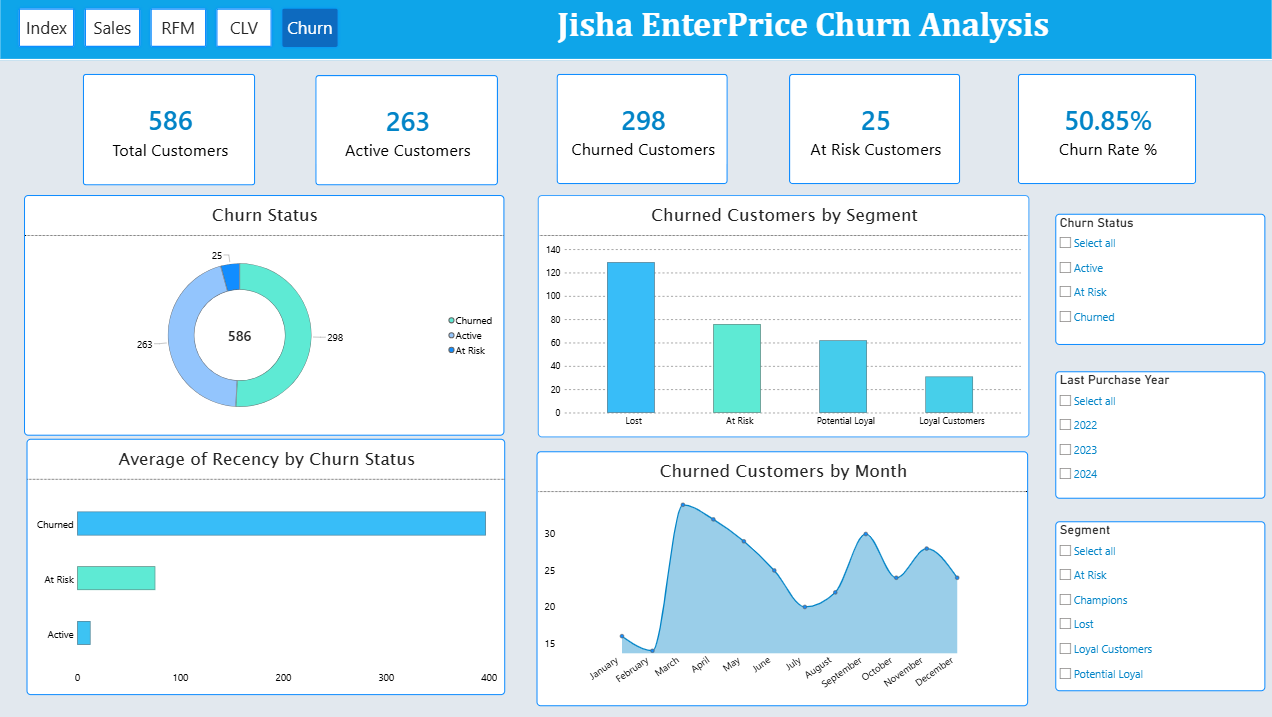

The dashboard page shown, as its layout file describes it:
{"tool":"powerbi","page":{"name":"Churn","canvas":[3000,1700],"ordinal":4},"visuals":[{"type":"cardVisual","fields":{"Data":["Customer RFM.Churn Total Customers"]},"box":[198.2,184.8,406.7,263.3],"z":0},{"type":"cardVisual","fields":{"Data":["Customer RFM.Active Customers"]},"box":[743.6,187.9,430,260],"z":1000},{"type":"cardVisual","fields":{"Data":["Customer RFM.At Risk Customers"]},"box":[1858.8,184.8,403.3,260],"z":2000},{"type":"cardVisual","fields":{"Data":["Customer RFM.Churned Customers"]},"box":[1310.3,184.8,403.3,260],"z":3000},{"type":"cardVisual","fields":{"Data":["Customer RFM.Churn Rate %"]},"box":[2398.2,184.8,420,260],"z":4000},{"type":"donutChart","title":"Churn Status","fields":{"Category":["Customer RFM.Churn Status"],"Y":["Customer RFM.Churn Total Customers"]},"box":[58.8,470.9,1130,566.7],"z":5000},{"type":"clusteredColumnChart","fields":{"Category":["Customer RFM.Segment"],"Y":["Customer RFM.Churned Customers"]},"box":[1267,470,1156.7,570],"z":6000},{"type":"clusteredBarChart","fields":{"Category":["Customer RFM.Churn Status"],"Y":["Avg(Customer RFM.Recency)"]},"box":[65.7,1042.9,1126.7,603.3],"z":7000},{"type":"shape","box":[0,0,3000,153.3],"z":8000},{"type":"lineChart","fields":{"Category":["Customer RFM.Last Purchase Month.Variation.Date Hierarchy.Month"],"Y":["Customer RFM.Churned Customers"]},"box":[1265.7,1074.3,1157.1,600],"z":9000},{"type":"pageNavigator","box":[37.5,22.5,770,107.5],"z":10000},{"type":"textbox","box":[786.7,20,2213.3,130],"z":11000},{"type":"slicer","fields":{"Values":["Customer RFM.Churn Status"]},"box":[2485.7,514.3,494.3,308.6],"z":12000},{"type":"actionButton","box":[0,0,100,40],"z":13000},{"type":"slicer","fields":{"Values":["Customer RFM.Last Purchase Date.Variation.Date Hierarchy.Year"]},"box":[2485.7,885.7,494.3,300],"z":14000},{"type":"slicer","fields":{"Values":["Customer RFM.Segment"]},"box":[2485.7,1237.1,494.3,400],"z":15000}]}

Visuals, with their boxes in screenshot pixels (x1, y1, x2, y2), scaled from the page's 3000x1700 canvas onto the 1272x717 screenshot:
cardVisual - Customer RFM.Churn Total Customers: (x1=84, y1=78, x2=256, y2=189)
cardVisual - Customer RFM.Active Customers: (x1=315, y1=79, x2=498, y2=189)
cardVisual - Customer RFM.At Risk Customers: (x1=788, y1=78, x2=959, y2=188)
cardVisual - Customer RFM.Churned Customers: (x1=556, y1=78, x2=727, y2=188)
cardVisual - Customer RFM.Churn Rate %: (x1=1017, y1=78, x2=1195, y2=188)
"Churn Status" donutChart: (x1=25, y1=199, x2=504, y2=438)
clusteredColumnChart - Customer RFM.Segment x Customer RFM.Churned Customers: (x1=537, y1=198, x2=1028, y2=439)
clusteredBarChart - Customer RFM.Churn Status x Avg(Customer RFM.Recency): (x1=28, y1=440, x2=506, y2=694)
shape: (x1=0, y1=0, x2=1271, y2=65)
lineChart - Customer RFM.Last Purchase Month.Variation.Date Hierarchy.Month x Customer RFM.Churned Customers: (x1=537, y1=453, x2=1027, y2=706)
pageNavigator: (x1=16, y1=9, x2=342, y2=55)
textbox: (x1=334, y1=8, x2=1271, y2=63)
slicer - Customer RFM.Churn Status: (x1=1054, y1=217, x2=1264, y2=347)
actionButton: (x1=0, y1=0, x2=42, y2=17)
slicer - Customer RFM.Last Purchase Date.Variation.Date Hierarchy.Year: (x1=1054, y1=374, x2=1264, y2=500)
slicer - Customer RFM.Segment: (x1=1054, y1=522, x2=1264, y2=690)
